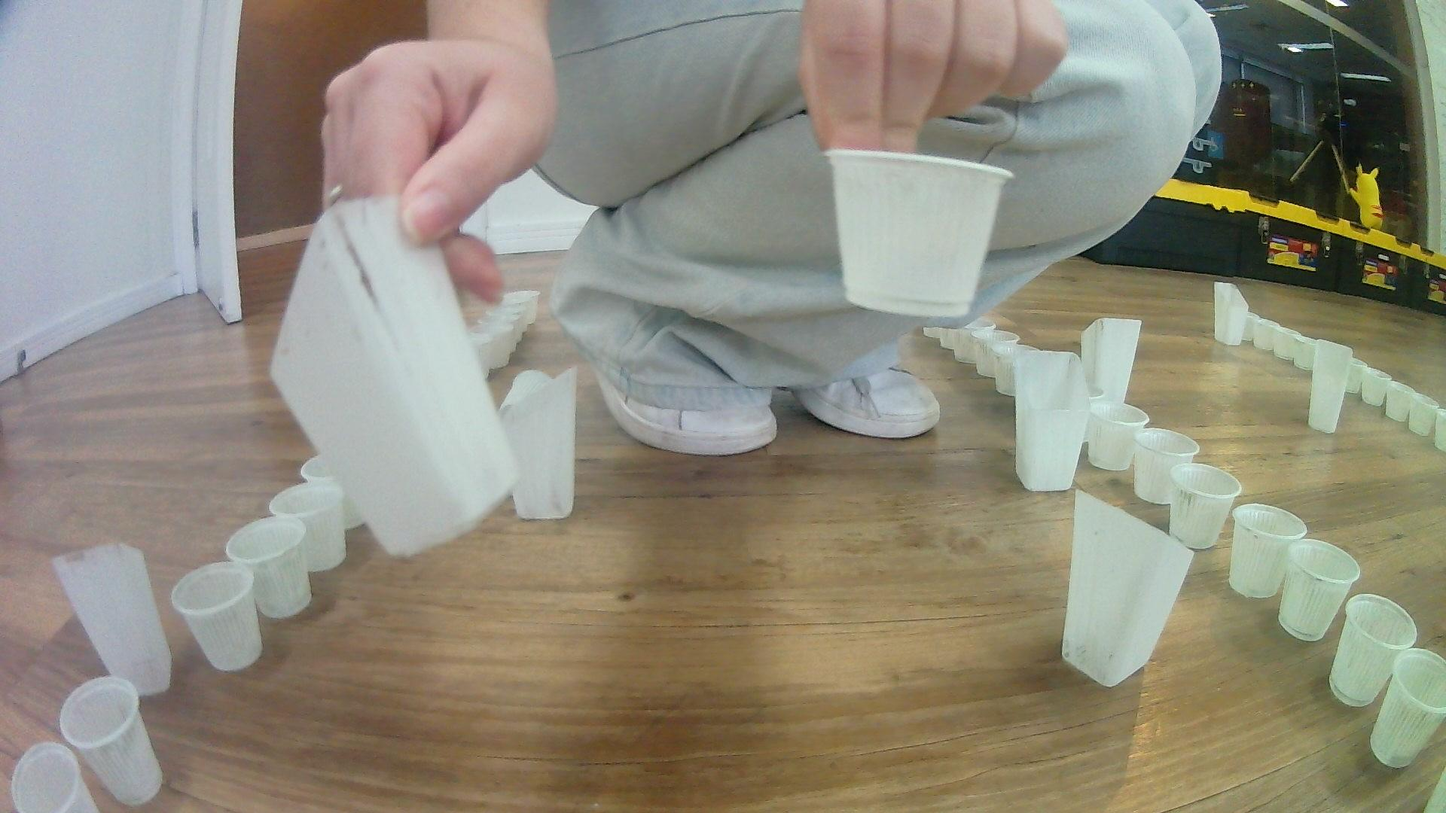erva_daninha: (269, 189, 522, 561), (1060, 487, 1195, 689), (53, 542, 173, 697), (496, 364, 578, 521), (1011, 349, 1090, 492), (1079, 316, 1143, 410), (1308, 338, 1355, 435), (1213, 282, 1249, 345)
planta: (825, 146, 1015, 319), (59, 677, 164, 808), (1327, 592, 1418, 708), (169, 562, 263, 673), (1369, 647, 1446, 770), (224, 517, 313, 620), (1277, 538, 1362, 643), (1229, 503, 1309, 599), (268, 484, 352, 573), (10, 741, 100, 813), (1170, 463, 1243, 551), (1132, 427, 1200, 507), (300, 455, 367, 530), (1086, 402, 1152, 472), (994, 343, 1037, 397), (465, 327, 510, 374), (975, 333, 1018, 379), (475, 317, 521, 354), (953, 327, 997, 365), (498, 290, 541, 326), (1408, 395, 1440, 437), (1382, 381, 1414, 422), (490, 306, 529, 338), (1362, 368, 1392, 406), (939, 320, 975, 350), (1273, 327, 1302, 361), (1292, 335, 1319, 370), (1255, 318, 1281, 351), (1346, 359, 1369, 394), (1246, 312, 1267, 345), (1435, 764, 1446, 813), (1435, 408, 1446, 455), (923, 324, 950, 339)
